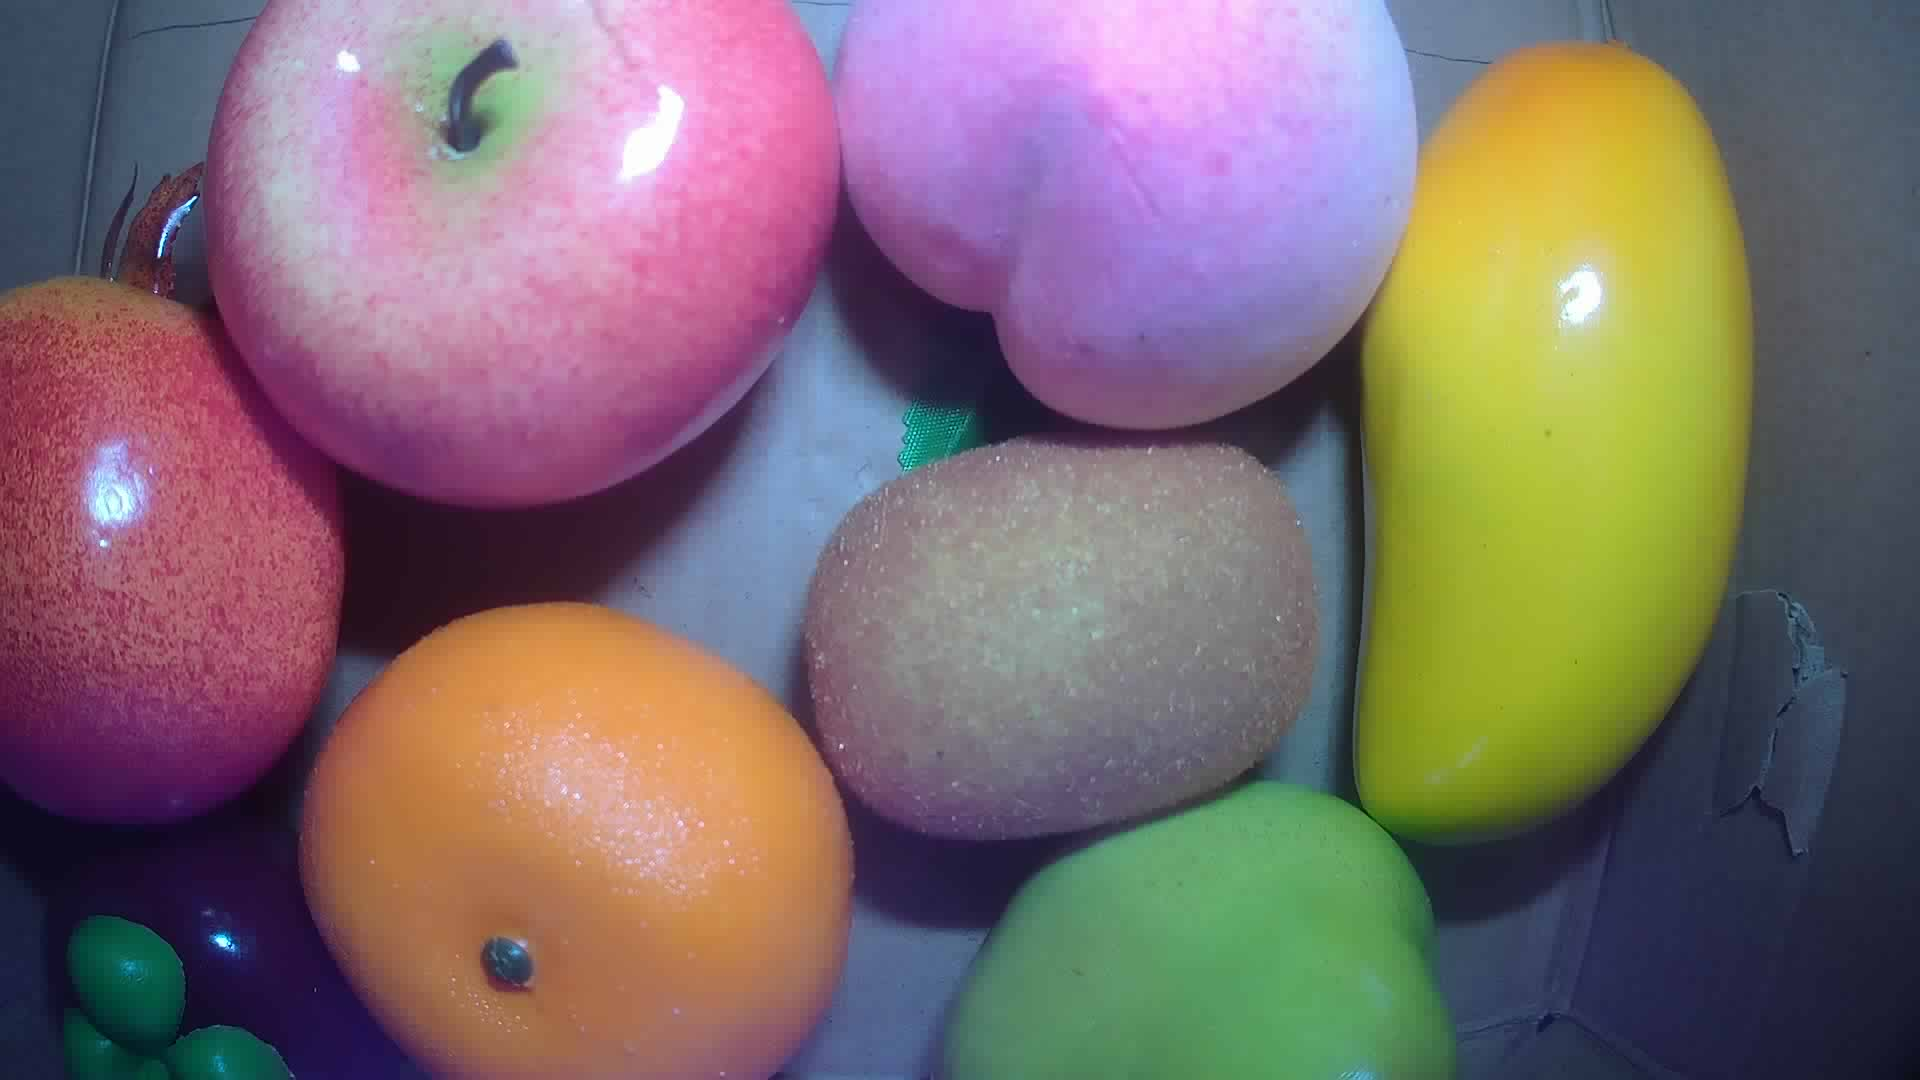apple: (204, 1, 841, 516)
kiwi: (800, 431, 1317, 853)
mango: (1350, 40, 1753, 851)
mangosteen: (18, 848, 367, 1080)
orange: (290, 597, 856, 1080)
peach: (833, 1, 1420, 426)
pear: (931, 781, 1460, 1080)
pomegranate: (1, 165, 352, 825)
